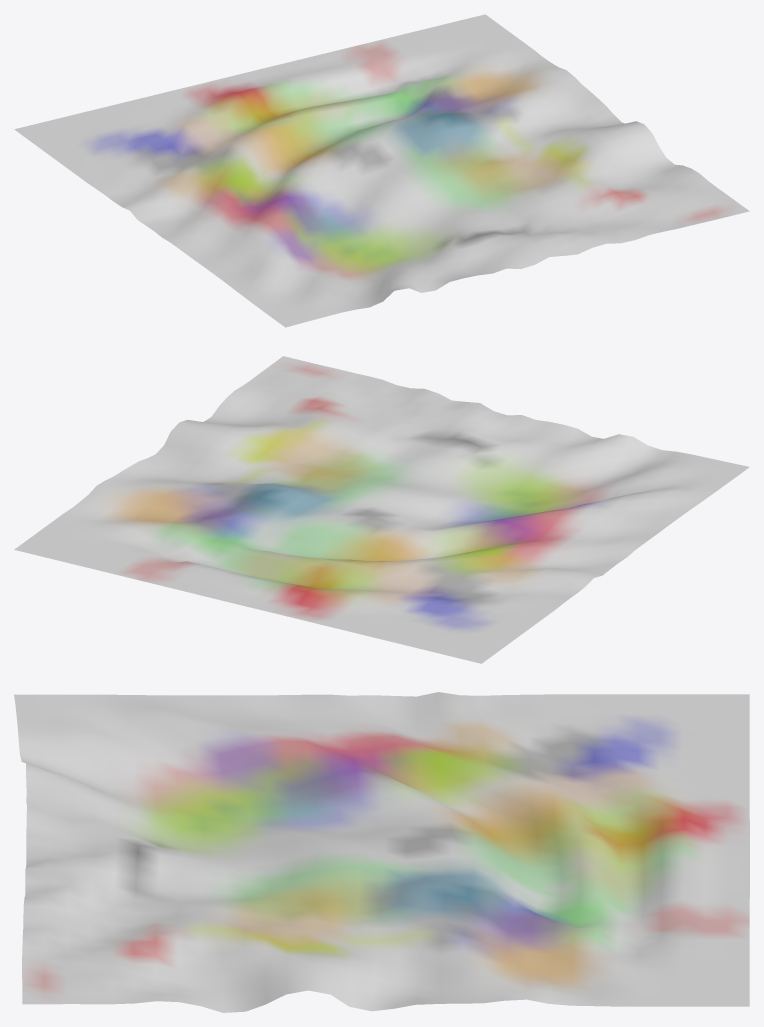
Rendered from Dropcloth.fbx.
The picture shows the model from 3 angles, top to bottom: view 1: azimuth 30°, elevation 25°; view 2: azimuth 150°, elevation 25°; view 3: azimuth 270°, elevation 25°; orthographic projection. The views are drawn at different scales.
Visible parts, largest first — view 1: Dropcloth; view 2: Dropcloth; view 3: Dropcloth.
Boxes of the visible parts, x1,y1,x2,y2 form: Dropcloth: (14,14,749,327); Dropcloth: (14,356,749,663); Dropcloth: (14,692,749,1012).
Bounding box in the file's own units: 2 × 0.1162 × 1.99.
